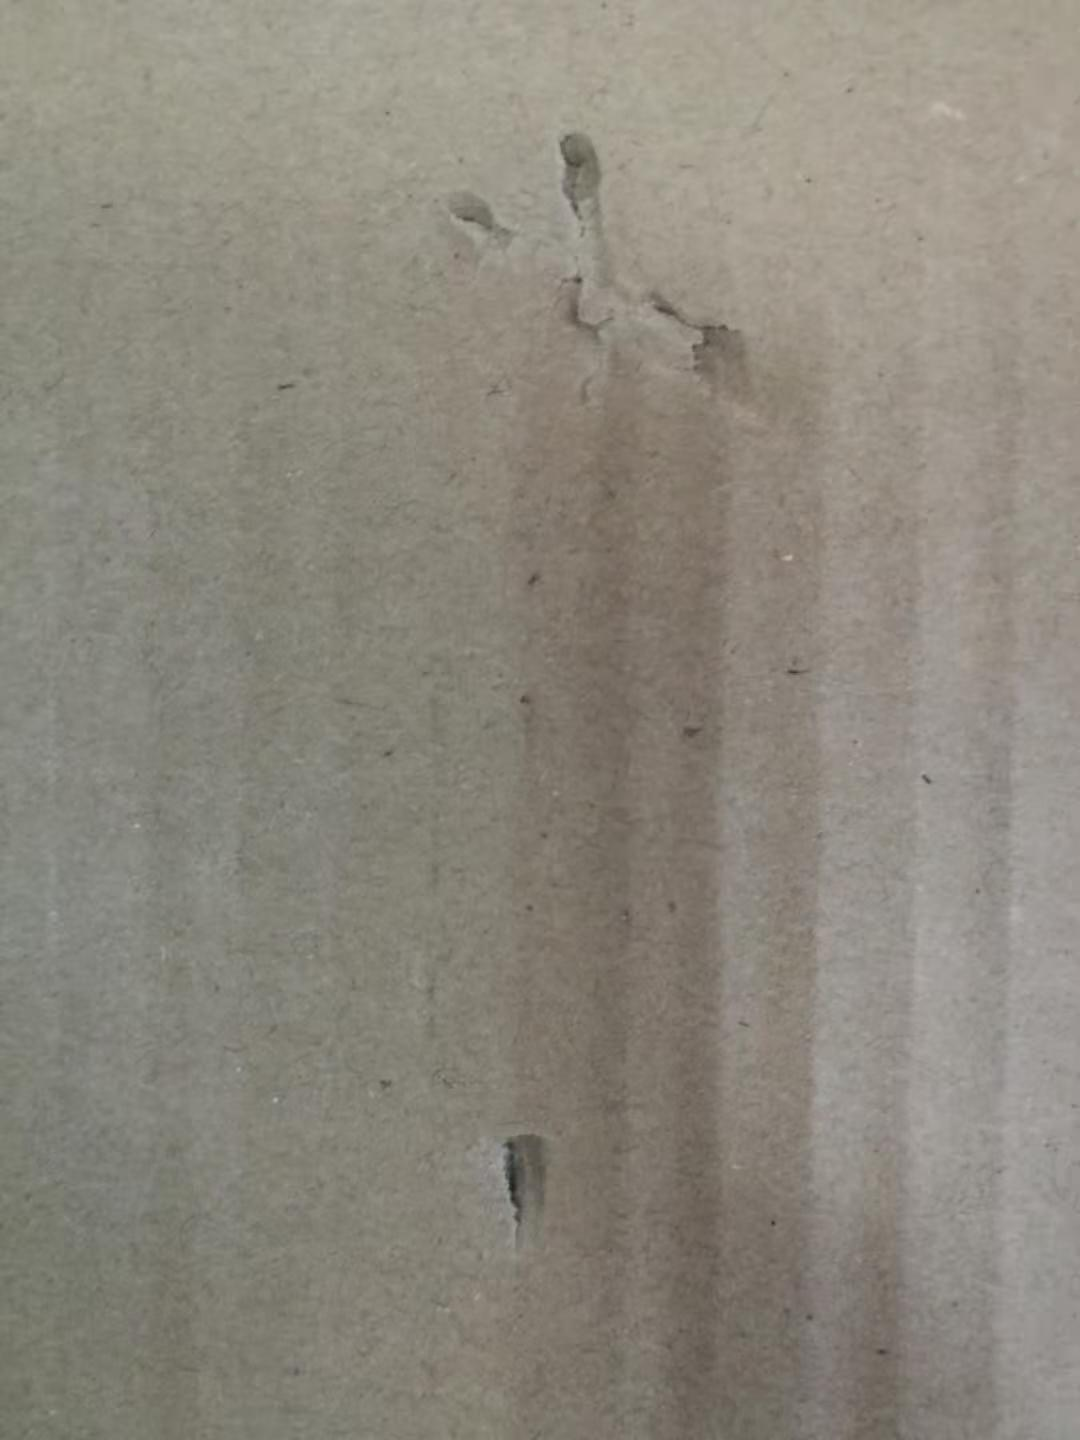defect: (419, 96, 815, 461), (459, 1099, 569, 1259)
